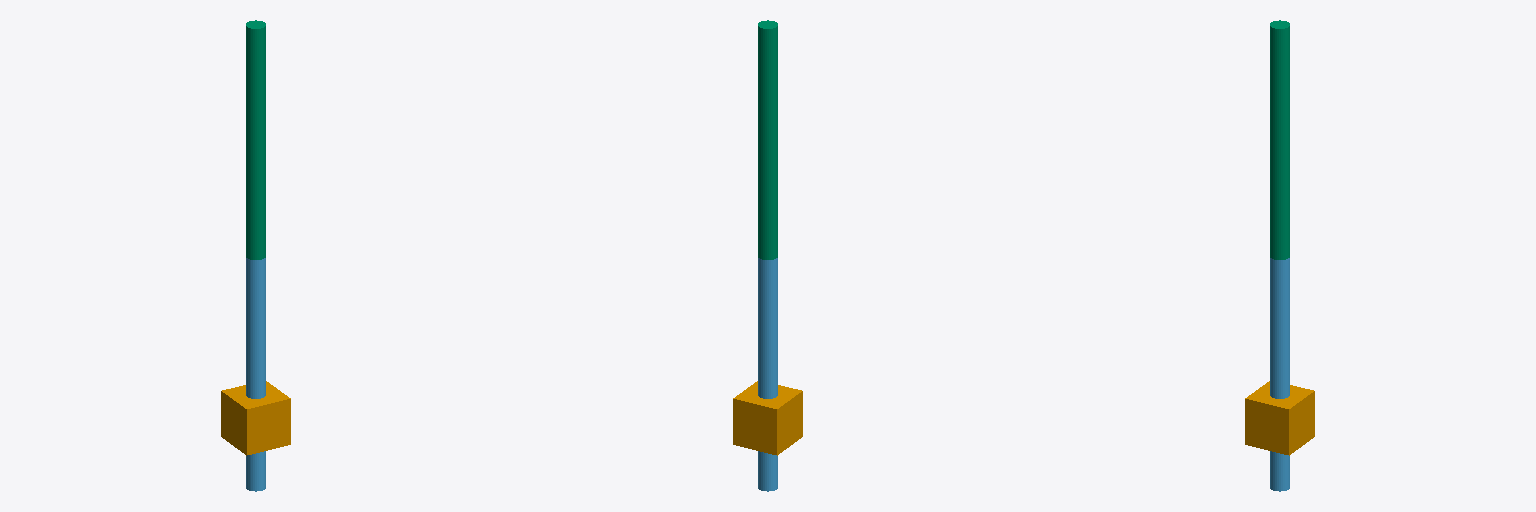
robot.urdf — two_link:
<?xml version="1.0"?>
<robot name="two_link">
  <link name="base">
    <inertial>
      <origin xyz="0 0 0.05"/>
      <mass value="1"/>
      <inertia ixx="0.01" iyy="0.01" izz="0.01" ixy="0" ixz="0" iyz="0"/>
    </inertial>
    <visual><geometry><box size="0.1 0.1 0.1"/></geometry></visual>
  </link>
  <link name="link1">
    <inertial>
      <origin xyz="0 0 0.25"/>
      <mass value="0.5"/>
      <inertia ixx="0.01" iyy="0.01" izz="0.001" ixy="0" ixz="0" iyz="0"/>
    </inertial>
    <visual><geometry><cylinder radius="0.02" length="0.5"/></geometry></visual>
  </link>
  <link name="link2">
    <inertial>
      <origin xyz="0 0 0.25"/>
      <mass value="0.5"/>
      <inertia ixx="0.01" iyy="0.01" izz="0.001" ixy="0" ixz="0" iyz="0"/>
    </inertial>
    <visual><geometry><cylinder radius="0.02" length="0.5"/></geometry></visual>
  </link>
  <joint name="shoulder" type="revolute">
    <parent link="base"/>
    <child link="link1"/>
    <origin xyz="0 0 0.1"/>
    <axis xyz="0 1 0"/>
    <limit lower="-3.14" upper="3.14" effort="10" velocity="10"/>
  </joint>
  <joint name="elbow" type="revolute">
    <parent link="link1"/>
    <child link="link2"/>
    <origin xyz="0 0 0.5"/>
    <axis xyz="0 1 0"/>
    <limit lower="-3.14" upper="3.14" effort="10" velocity="10"/>
  </joint>
</robot>

--- Render facts (derived) ---
Views: 3 orthographic renders of the robot side by side, from view 1: azimuth 30°, elevation 25°; view 2: azimuth 150°, elevation 25°; view 3: azimuth 330°, elevation 25°.
Robot: two_link — 3 links, 2 joints (2 revolute); root link base; default pose: all joints at 0.
Links seen in each view (by area): view 1: link2, base, link1; view 2: link2, base, link1; view 3: link2, base, link1.
Link boxes in pixels (bbox=[...]): link2: bbox=[246, 20, 265, 259]; base: bbox=[221, 381, 290, 455]; link1: bbox=[246, 258, 265, 491]; link2: bbox=[758, 20, 777, 259]; base: bbox=[733, 381, 802, 455]; link1: bbox=[758, 258, 777, 491]; link2: bbox=[1270, 20, 1289, 259]; base: bbox=[1245, 381, 1314, 455]; link1: bbox=[1270, 258, 1289, 491].
Size in the robot's own frame: 0.1 by 0.1 by 1 metres.
Geometry: primitives only (box / cylinder / sphere), no mesh files.
